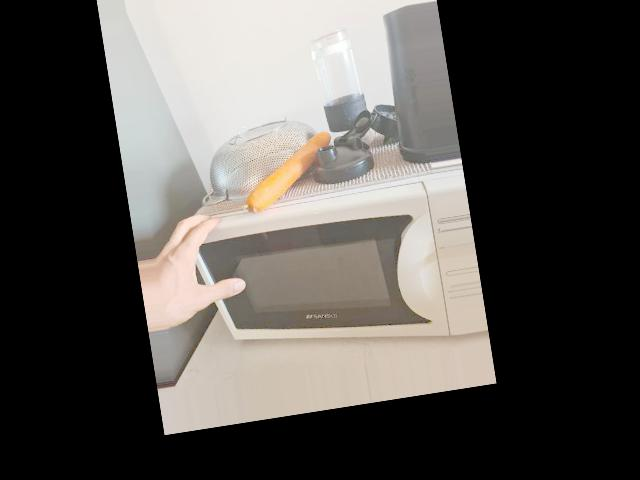carrot: (237, 129, 340, 215)
